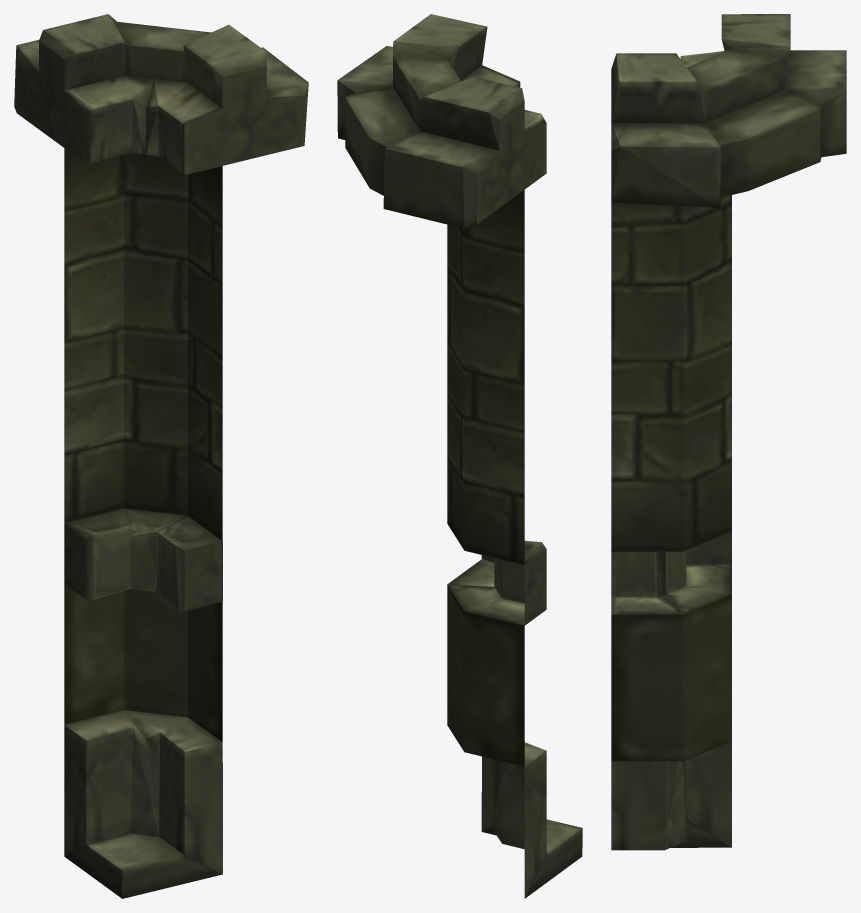
Rendered from wall_corner_concave.fbx.
The picture shows the model from 3 angles, left to right: view 1: azimuth 30°, elevation 25°; view 2: azimuth 150°, elevation 25°; view 3: azimuth 270°, elevation 25°; orthographic projection. The views are drawn at different scales.
Parts seen in each view (by area): view 1: wall_corner_concave; view 2: wall_corner_concave; view 3: wall_corner_concave.
Part boxes in pixels (box(x1,y1,x2,y2)): wall_corner_concave: box(14, 14, 308, 898); wall_corner_concave: box(337, 14, 582, 898); wall_corner_concave: box(611, 14, 846, 850).
Size of the model in its own units: 107 by 431 by 109.
